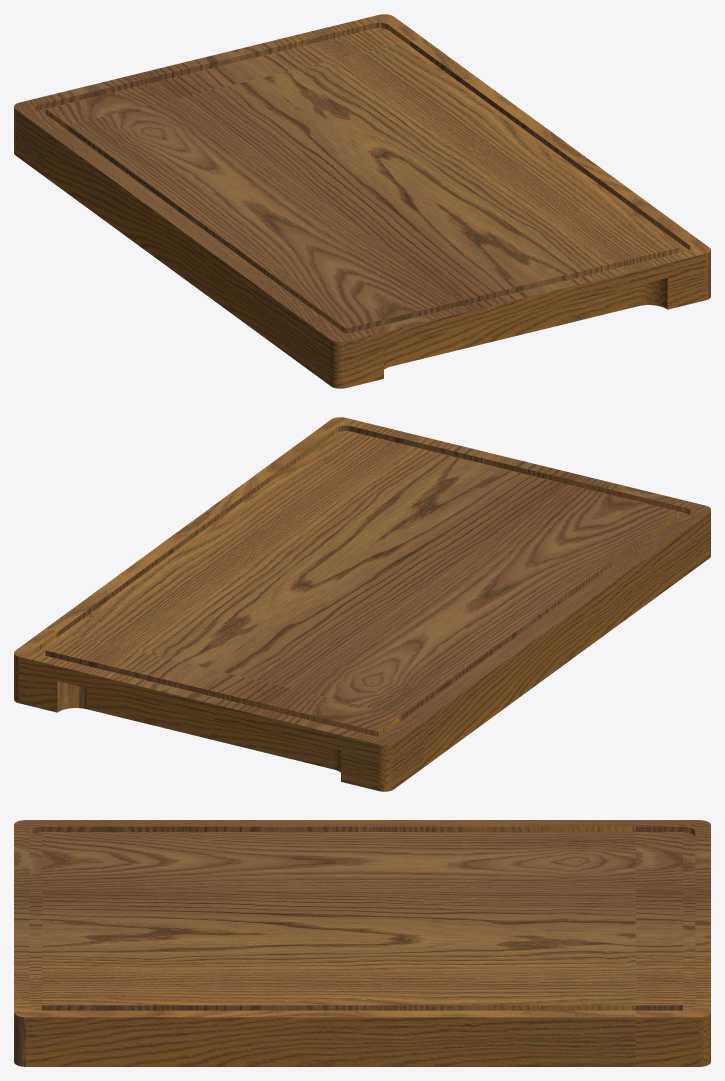
File: tabla-de-picar-teca-talla-m.glb
3 views of the same model, one above another, from view 1: azimuth 30°, elevation 25°; view 2: azimuth 150°, elevation 25°; view 3: azimuth 270°, elevation 25° (orthographic). The views are drawn at different scales.
Size of the model in its own units: 0.3 by 0.0352 by 0.4484.
2 materials, 2 textured.
